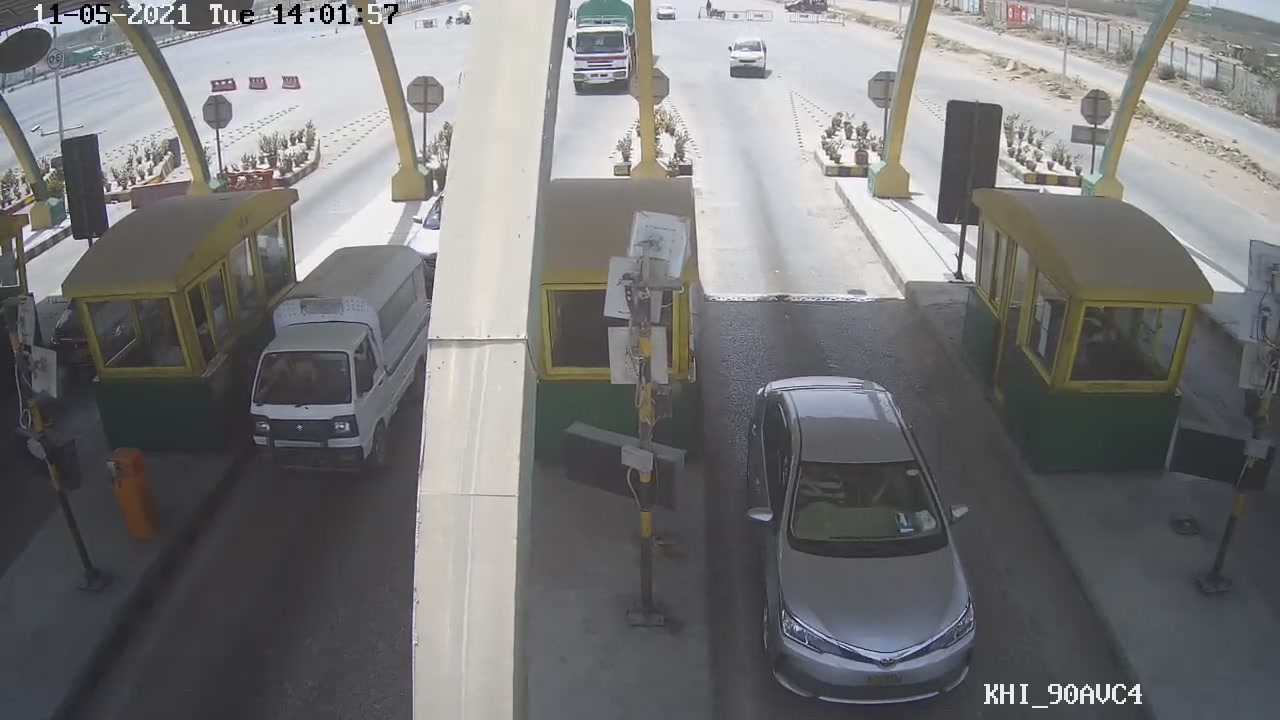F1: (739, 370, 979, 714)
